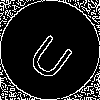U: (25, 25, 81, 84)
